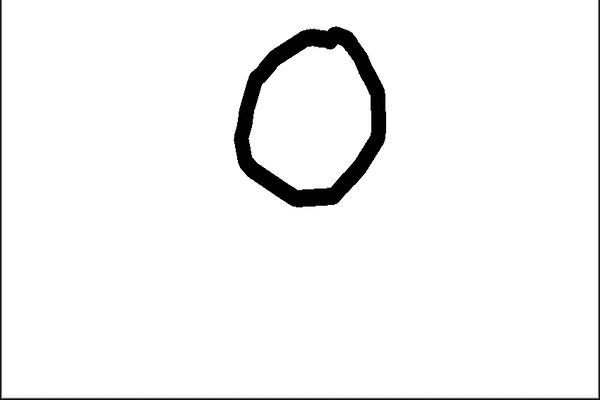O: (220, 17, 397, 212)
